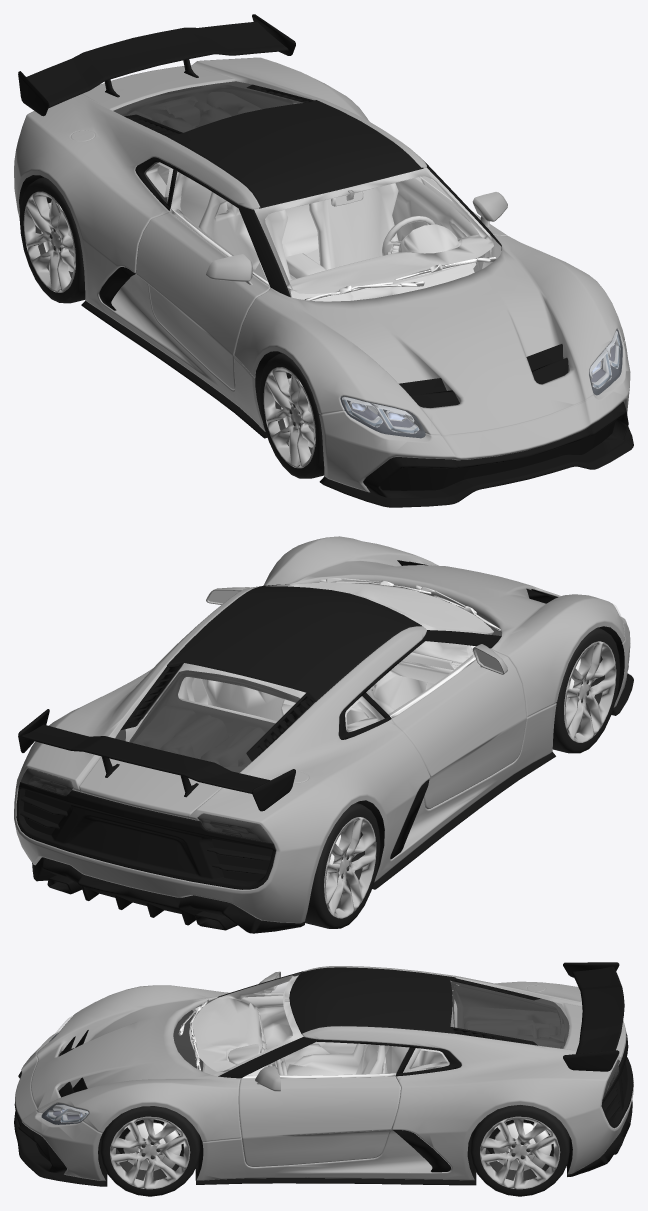
File: Carwhite.gltf
The picture shows the model from 3 angles, top to bottom: view 1: azimuth 30°, elevation 25°; view 2: azimuth 150°, elevation 25°; view 3: azimuth 270°, elevation 25°; orthographic projection. The views are drawn at different scales.
Visible parts, largest first — view 1: Car06_Body_LOD1.18, Car06_Glass_LOD1.19, Car06_Interior_LOD1.8, Car06_Door_Right_LOD1.15, Car06_Wheel_Rear_Right_LOD1.36, Car06_Door_Left_LOD1.17; view 2: Car06_Body_LOD1.18, Car06_Glass_LOD1.19, Car06_Interior_LOD1.8, Car06_Door_Right_LOD1.15, Car06_Wheel_Rear_Right_LOD1.36, Car06_Door_Left_LOD1.17; view 3: Car06_Body_LOD1.18, Car06_Glass_LOD1.19, Car06_Door_Left_LOD1.17, Car06_Wheel_Rear_Right_LOD1.36, Car06_Interior_LOD1.8, Car06_BrakeCaliper_RearRight_LOD1.34.
Part boxes in pixels (x1,y1,x2,y2): Car06_Body_LOD1.18: (14, 14, 633, 507); Car06_Glass_LOD1.19: (114, 81, 622, 437); Car06_Interior_LOD1.8: (146, 162, 496, 301); Car06_Door_Right_LOD1.15: (136, 211, 270, 389); Car06_Wheel_Rear_Right_LOD1.36: (19, 177, 324, 478); Car06_Door_Left_LOD1.17: (169, 176, 508, 286); Car06_Body_LOD1.18: (14, 536, 633, 933); Car06_Glass_LOD1.19: (21, 582, 622, 842); Car06_Interior_LOD1.8: (156, 578, 500, 732); Car06_Door_Right_LOD1.15: (392, 644, 526, 808); Car06_Wheel_Rear_Right_LOD1.36: (304, 627, 620, 928); Car06_Door_Left_LOD1.17: (151, 587, 503, 718); Car06_Body_LOD1.18: (14, 962, 633, 1186); Car06_Glass_LOD1.19: (41, 973, 620, 1124); Car06_Door_Left_LOD1.17: (238, 974, 400, 1166); Car06_Wheel_Rear_Right_LOD1.36: (100, 1105, 569, 1196); Car06_Interior_LOD1.8: (178, 975, 457, 1076); Car06_BrakeCaliper_RearRight_LOD1.34: (123, 1122, 551, 1170).
Bounding box in the file's own units: 2 × 1.23 × 4.59.
